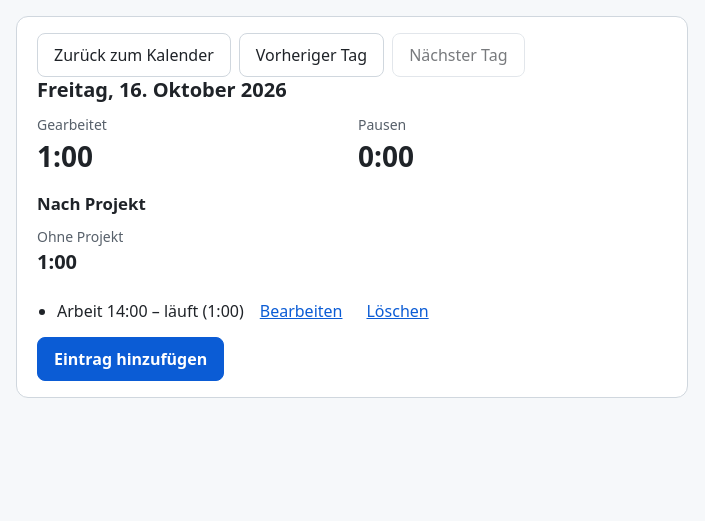
Test: DayDetailView › deleting the only open entry leaves no open entry
Click the button "Löschen": coordinates (398, 311) [358,293,437,329]
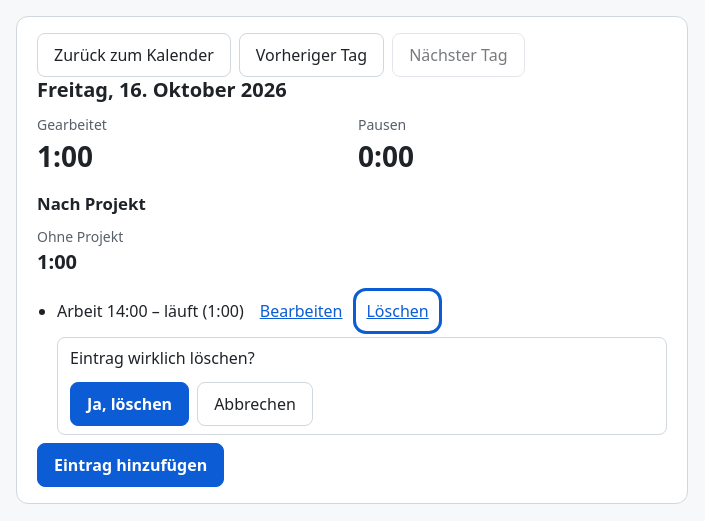
Click the button "Ja, löschen": coordinates (130, 404) [70,382,189,426]
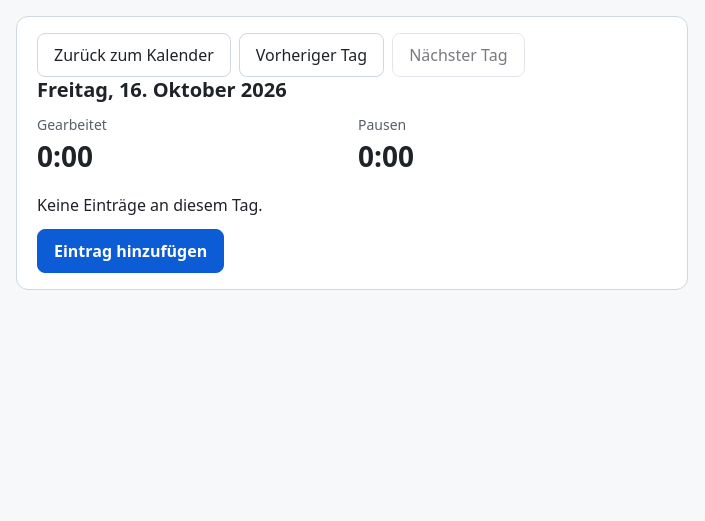
Expected: the text "Keine Einträge an diesem Tag." is shown, [37,194,263,216]
